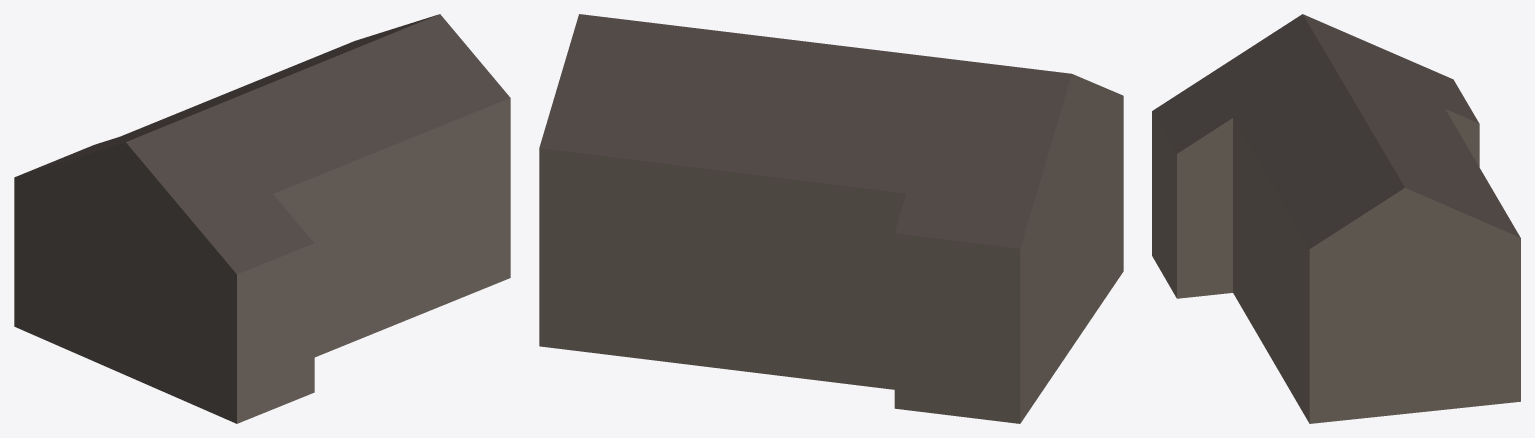
3 renders of one model, left to right at view 1: azimuth 30°, elevation 25°; view 2: azimuth 150°, elevation 25°; view 3: azimuth 270°, elevation 25°, orthographic. The views are drawn at different scales.
Visible parts, largest first — view 1: HP-w1367350997; view 2: HP-w1367350997; view 3: HP-w1367350997.
Boxes of the visible parts, x1,y1,x2,y2 form: HP-w1367350997: (14, 14, 510, 423); HP-w1367350997: (539, 14, 1123, 423); HP-w1367350997: (1152, 14, 1520, 423).
Bounding box in the file's own units: 26.62 × 14.06 × 20.77.
